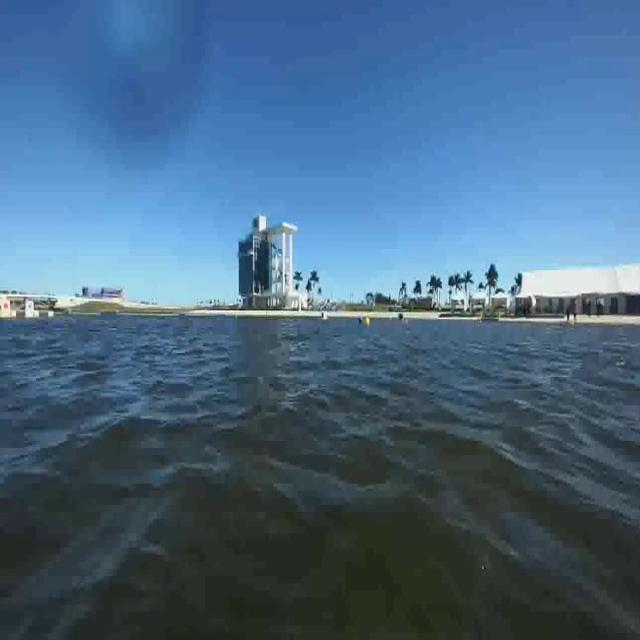yellow-buoy: (363, 316, 370, 328)
